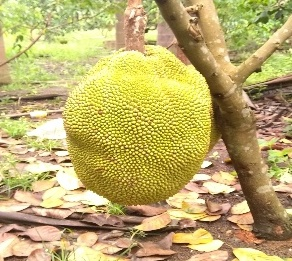Mit: (65, 46, 212, 207)
